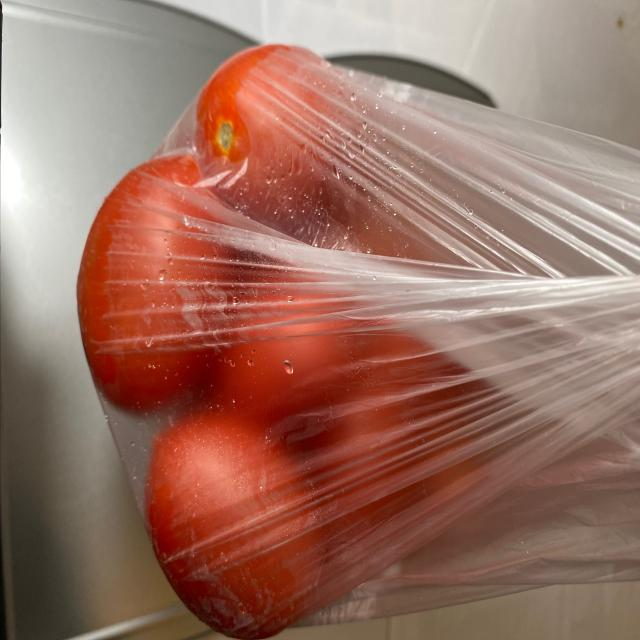tomato: (89, 46, 477, 627)
